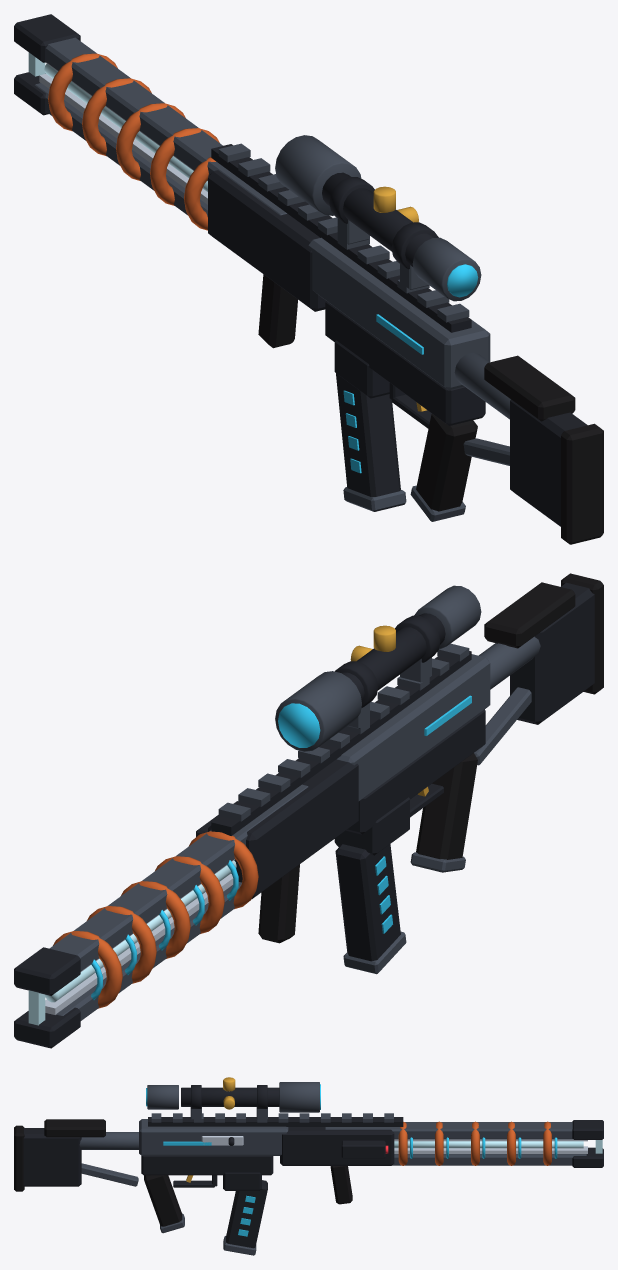
The model's file is gun_railgun.obj.
The picture shows the model from 3 angles, top to bottom: view 1: azimuth 30°, elevation 25°; view 2: azimuth 150°, elevation 25°; view 3: azimuth 270°, elevation 25°; orthographic projection. The views are drawn at different scales.
Visible parts, largest first — view 1: UpperRec, Handguard, RailUp, LowerRec, StockBody, MagBody, Buttpad, Grip, ScopeObj, PicBase, CheekRest, ScopeTube (+19 smaller); view 2: Handguard, UpperRec, RailUp, StockBody, MagBody, LowerRec, Grip, CheekRest, PicBase, ScopeObj, ScopeTube, MuzzleTop (+20 smaller); view 3: UpperRec, Handguard, StockBody, RailUp, LowerRec, PicBase, RailLo, MagBody, ScopeTube, Grip, ScopeObj, CheekRest (+22 smaller).
Part boxes in pixels (<box>): UpperRec: <box>308,237,490,390</box>; Handguard: <box>208,170,325,311</box>; RailUp: <box>45,37,286,215</box>; LowerRec: <box>325,301,485,425</box>; StockBody: <box>510,399,587,526</box>; MagBody: <box>336,373,400,496</box>; Buttpad: <box>561,423,603,544</box>; Grip: <box>416,414,477,511</box>; ScopeObj: <box>275,135,361,215</box>; PicBase: <box>211,144,471,332</box>; CheekRest: <box>484,355,575,421</box>; ScopeTube: <box>322,172,434,266</box>; Handguard: <box>208,759,358,898</box>; UpperRec: <box>337,654,490,801</box>; RailUp: <box>49,784,308,971</box>; StockBody: <box>510,582,594,724</box>; MagBody: <box>335,844,400,961</box>; LowerRec: <box>346,709,485,834</box>; Grip: <box>416,753,477,859</box>; CheekRest: <box>484,582,575,648</box>; PicBase: <box>211,651,471,835</box>; ScopeObj: <box>275,671,361,751</box>; ScopeTube: <box>342,613,445,700</box>; MuzzleTop: <box>14,947,80,995</box>; UpperRec: <box>139,1119,288,1155</box>; Handguard: <box>280,1127,394,1165</box>; StockBody: <box>23,1128,81,1186</box>; RailUp: <box>325,1122,572,1139</box>; LowerRec: <box>141,1155,273,1175</box>; PicBase: <box>148,1117,403,1126</box>; RailLo: <box>392,1154,586,1165</box>; MagBody: <box>226,1180,267,1248</box>; ScopeTube: <box>181,1087,279,1106</box>; Grip: <box>144,1175,182,1226</box>; ScopeObj: <box>279,1082,319,1112</box>; CheekRest: <box>44,1119,105,1137</box>.
Bounding box in the file's own units: 0.111 × 0.4313 × 1.34.
